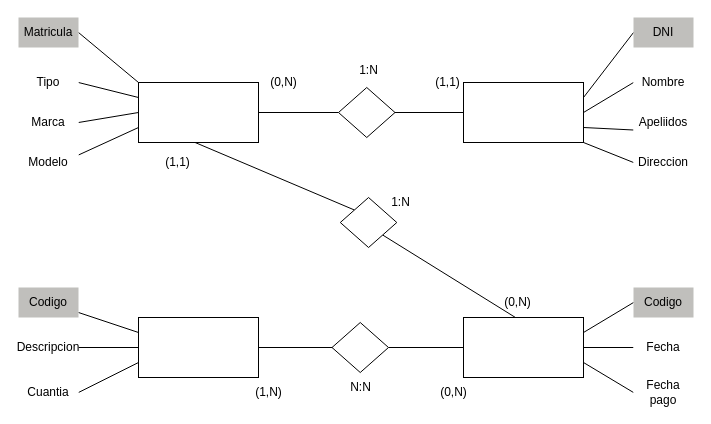
Some shapes in this 711 by 424 pixel diagram are drawn without their labels. Each missing label, with the centre of its shape:
Infraccion: point (198, 347)
Multa: point (523, 347)
Propietario: point (523, 112)
Vehiculo: point (198, 112)
